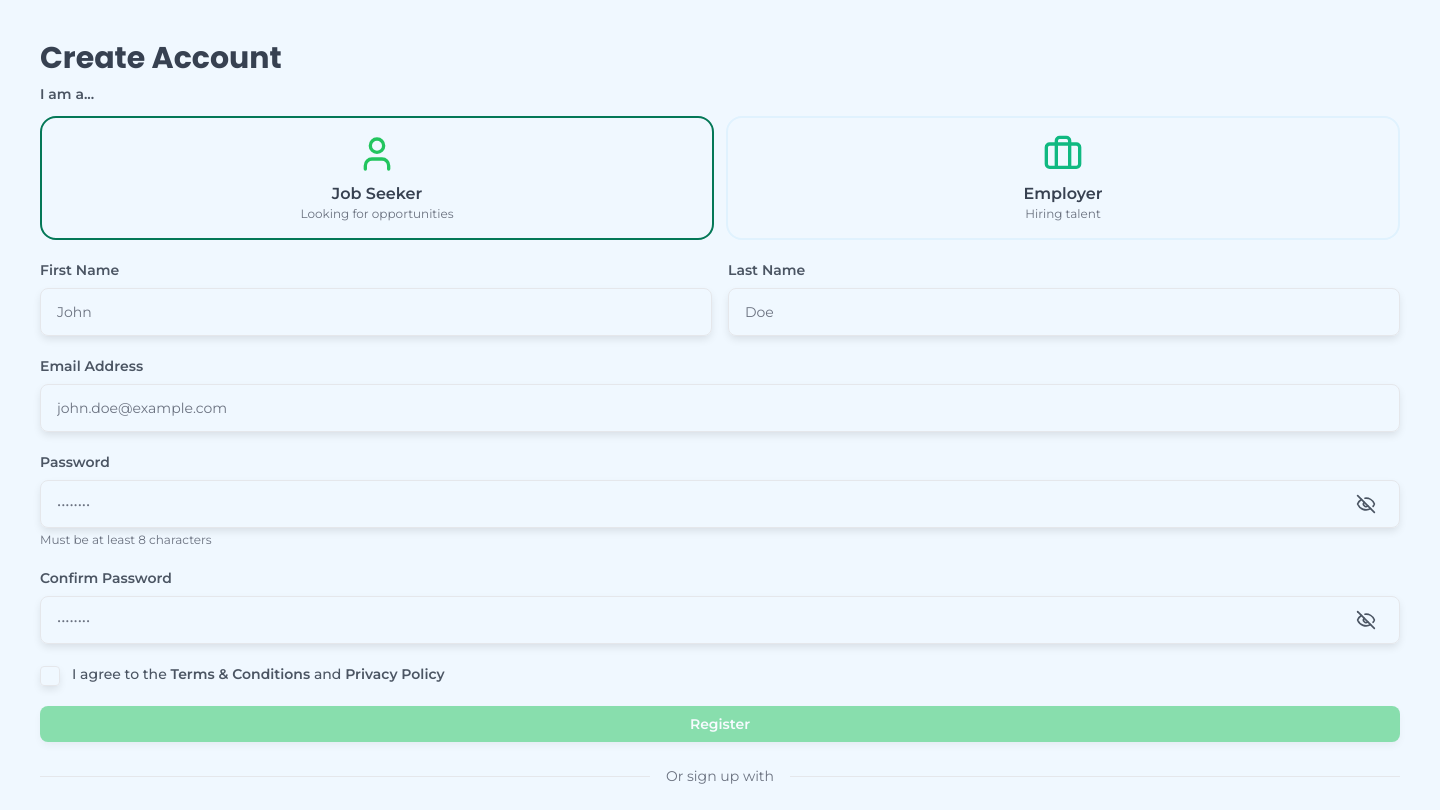
Test case: RegistrationForm › shows validation error for short password
In the password field labelled "Password": [720, 504] box [40,480,1400,528], type "short"
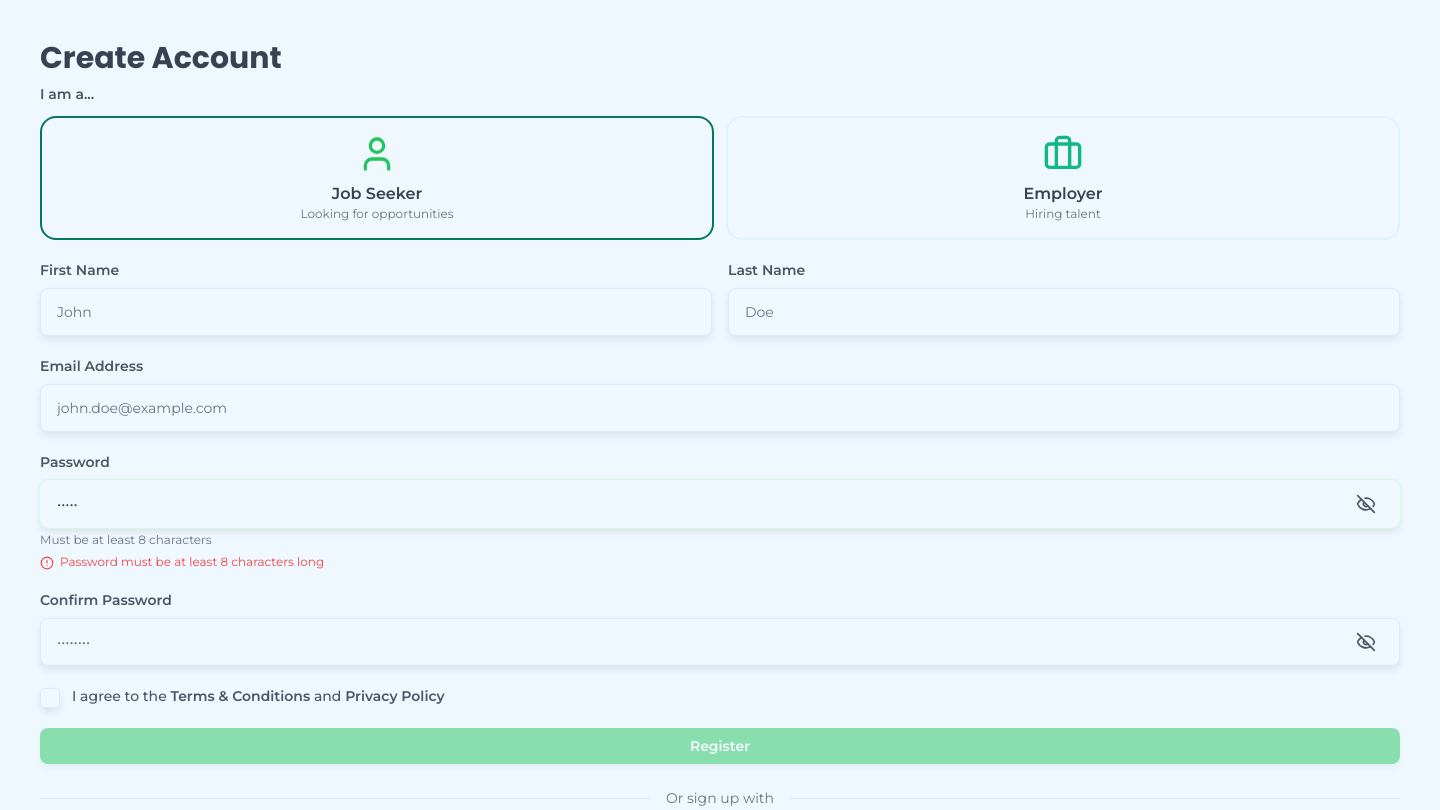
Result: the text "Password must be at least 8 characters long" is shown at [60,554,324,570]
